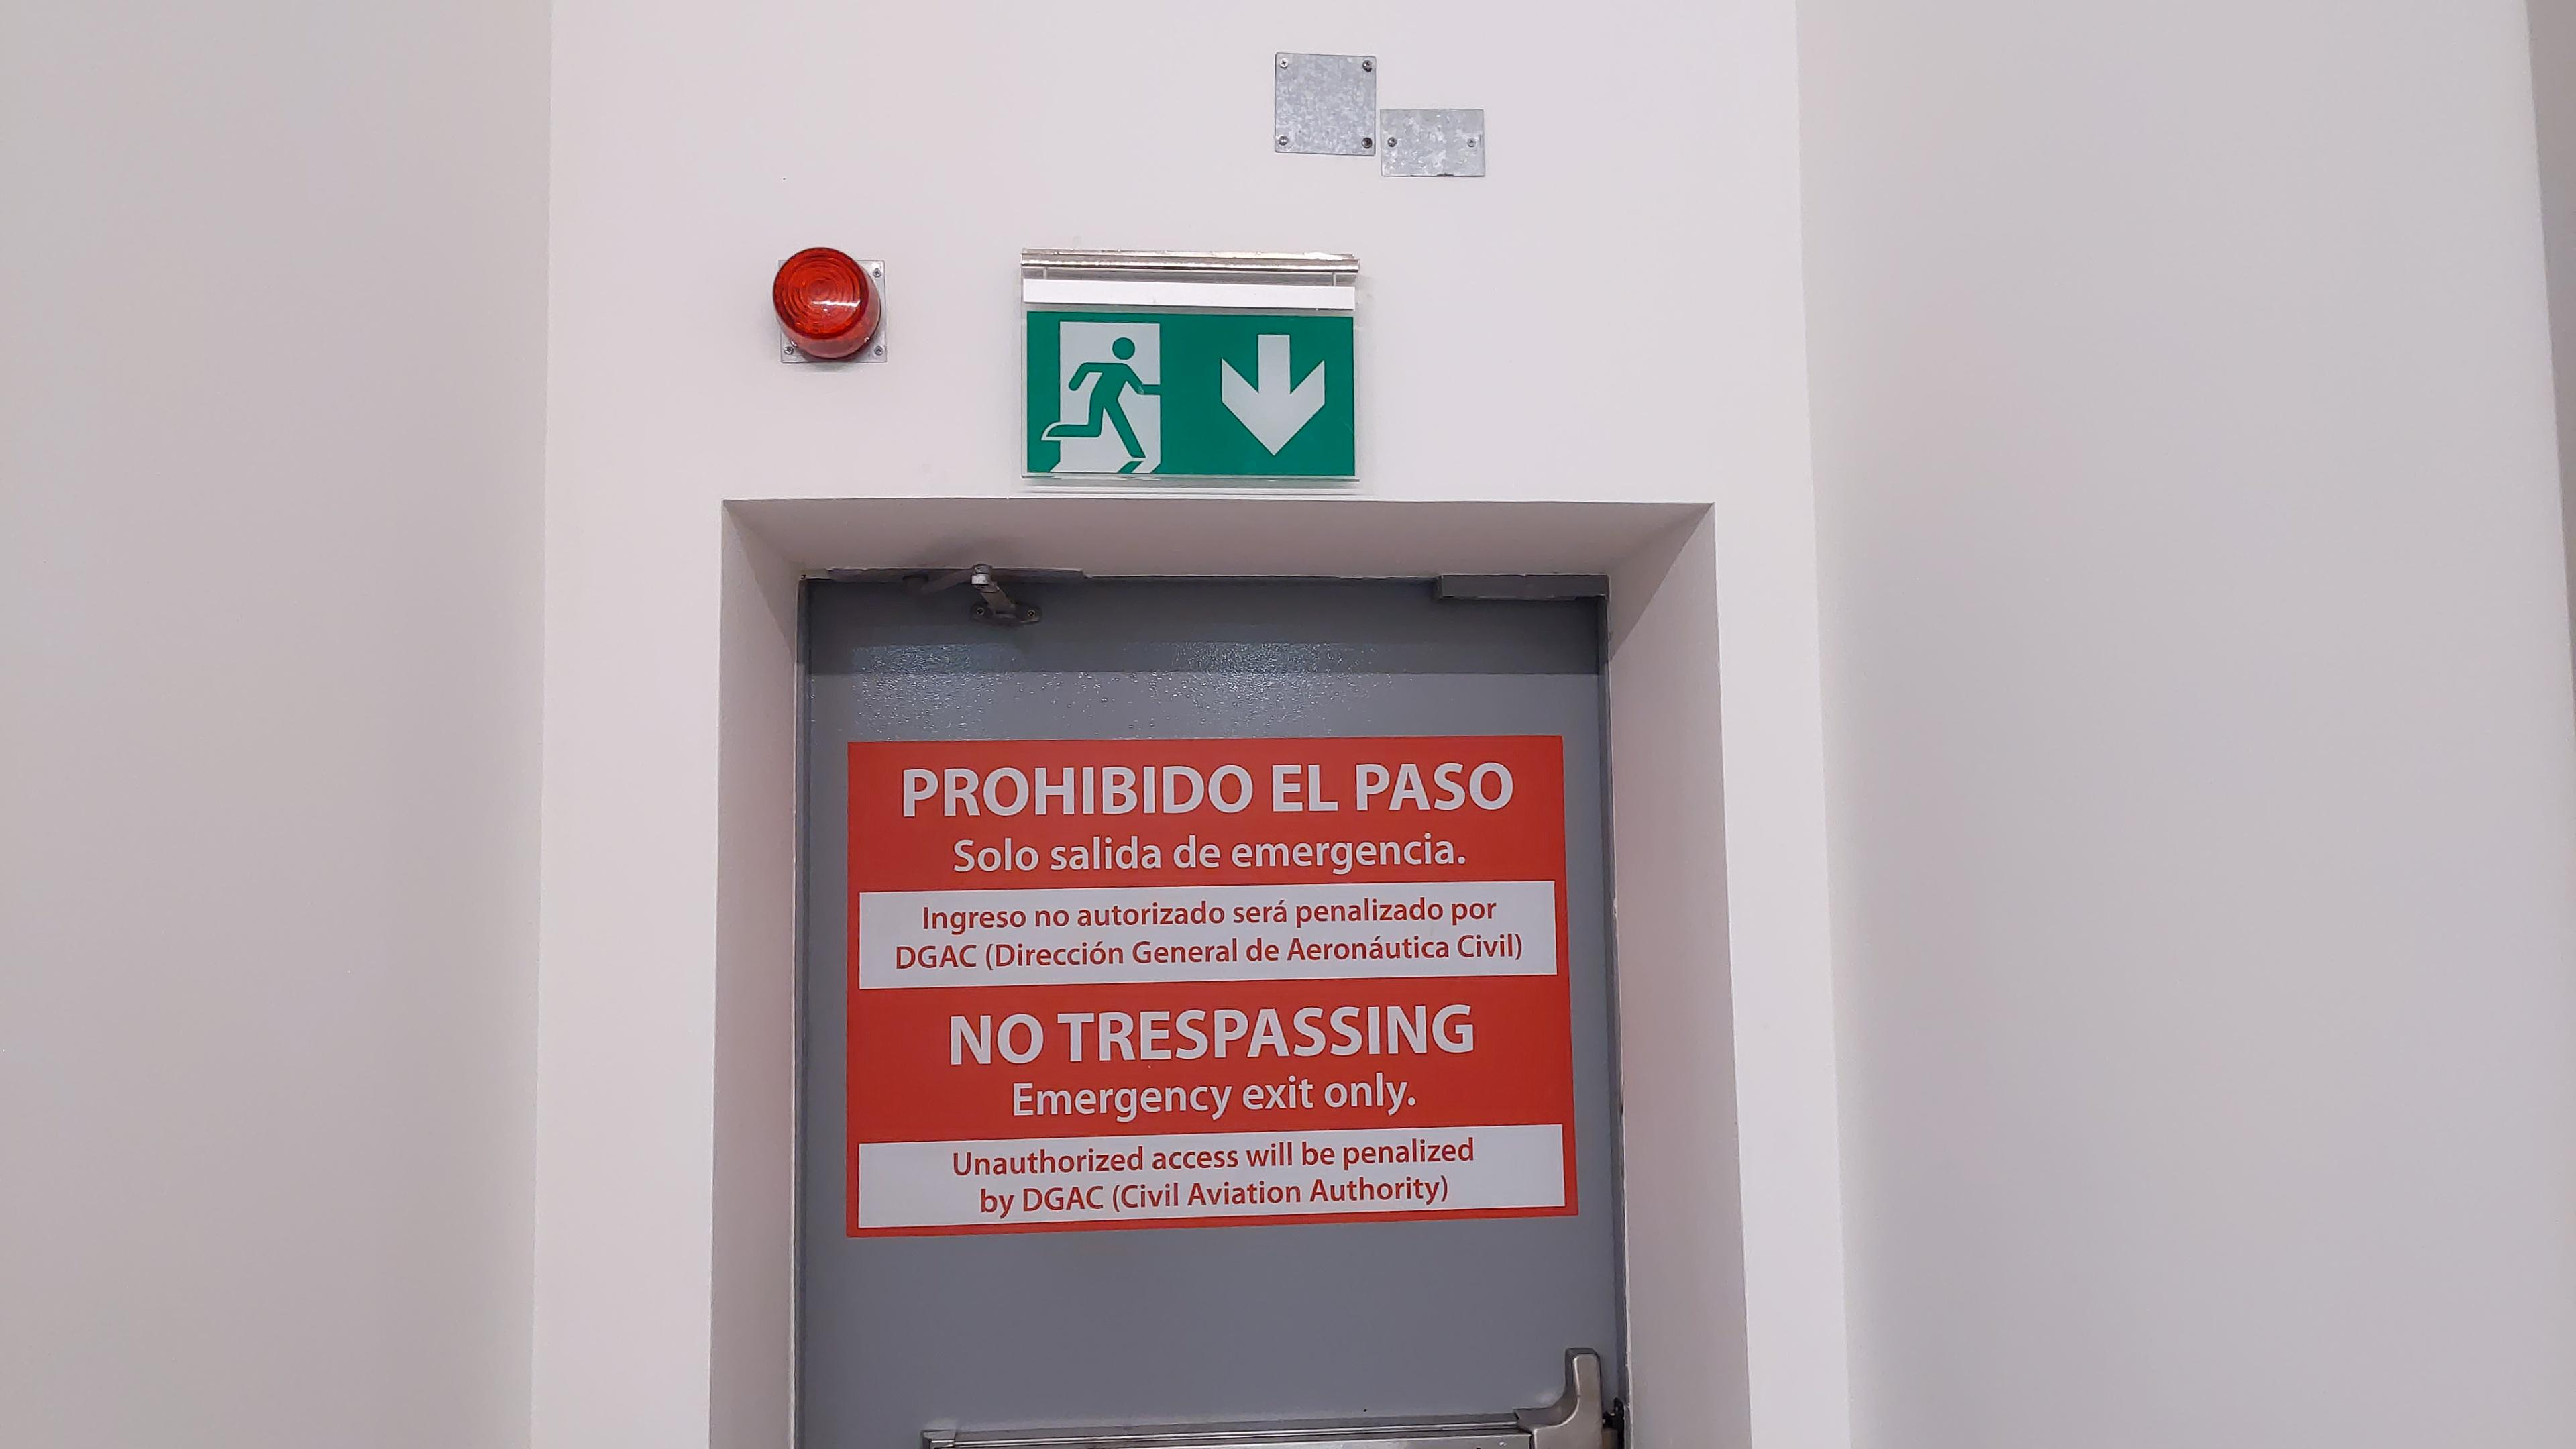emergency down arrow: (1210, 322, 1332, 464)
emergency exit: (1039, 310, 1171, 481)
no trespassing: (858, 741, 1562, 1219)
